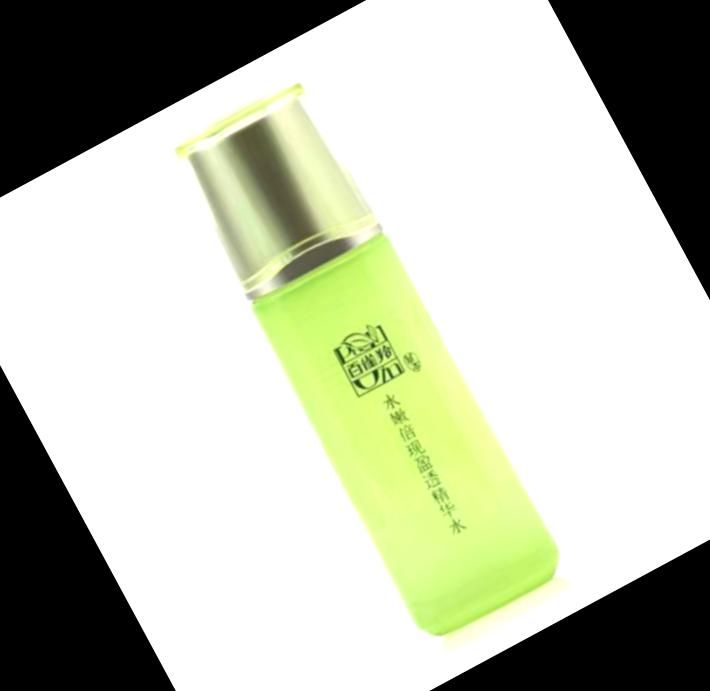cosmetic: (164, 71, 566, 631)
